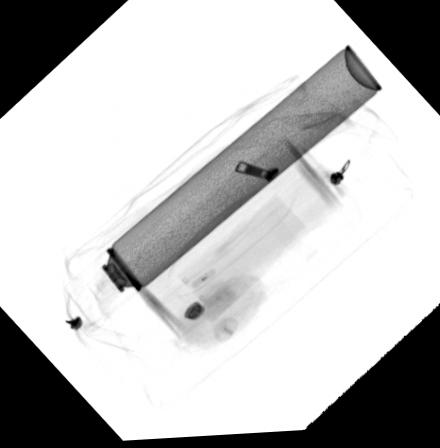Sprayer: (60, 46, 385, 328)
